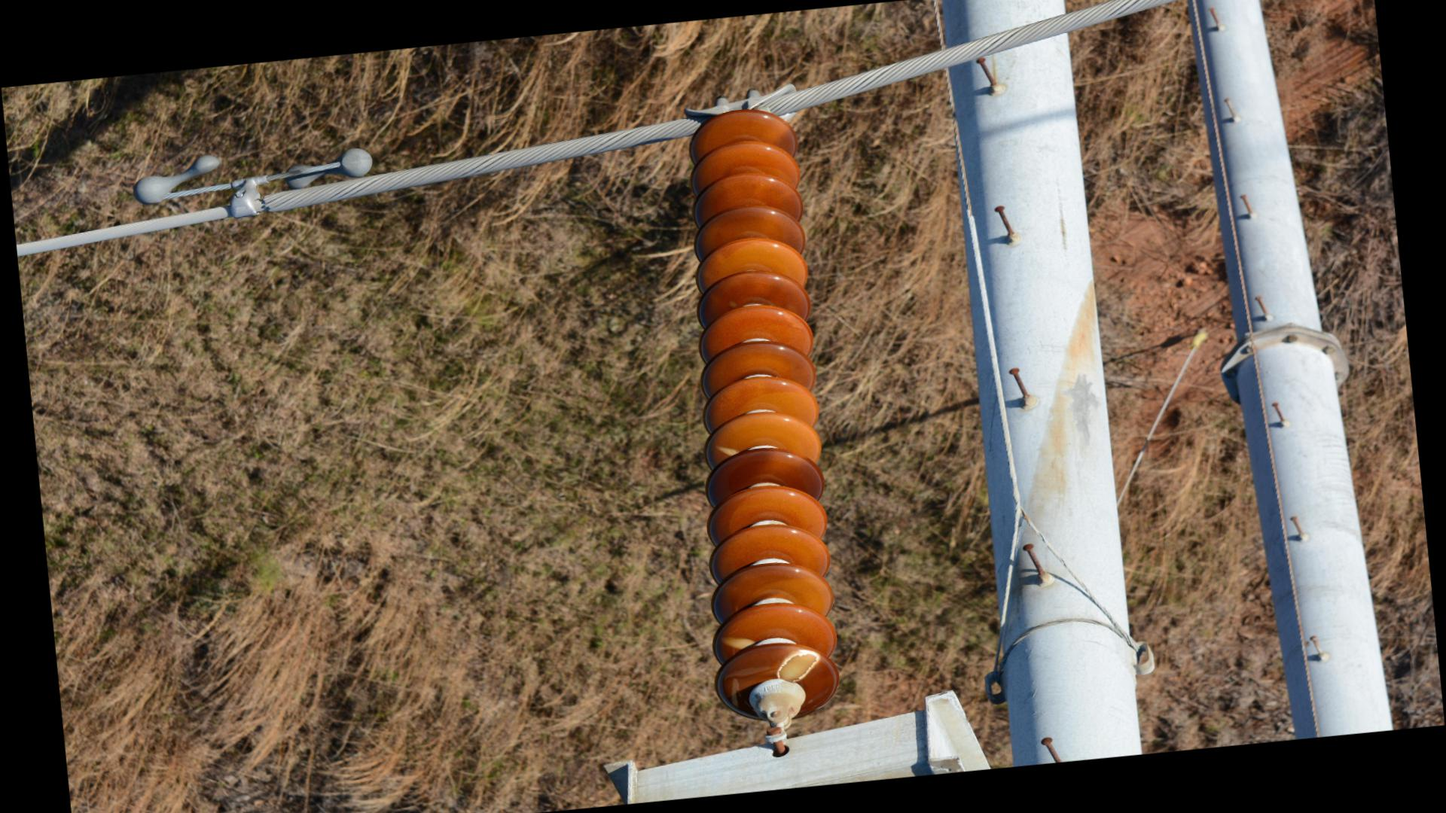damper: (124, 132, 381, 233)
